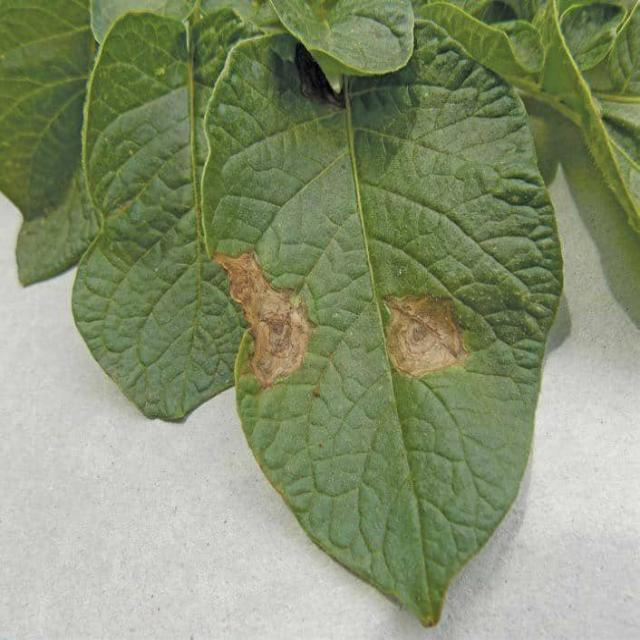earlyblight: (214, 250, 314, 389), (384, 294, 466, 377)
